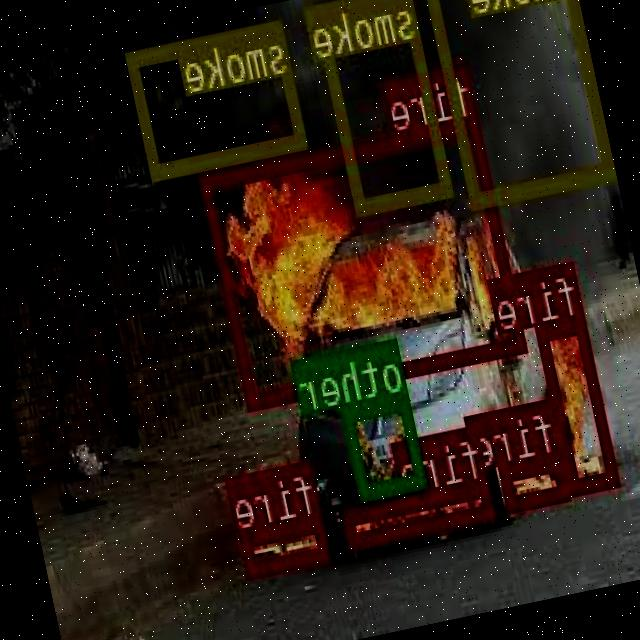fire: (202, 116, 527, 404), (536, 314, 622, 490), (344, 478, 496, 544), (241, 512, 333, 573), (501, 452, 572, 509)
smoke: (425, 0, 616, 206), (314, 0, 455, 213), (126, 18, 308, 178)
